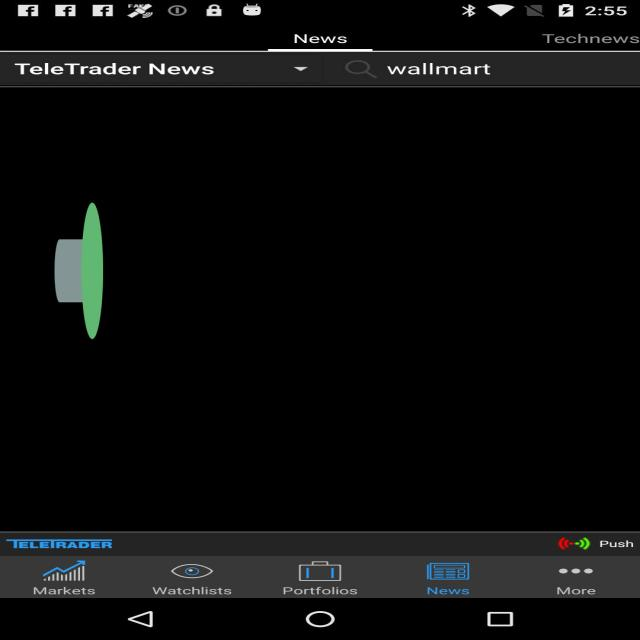social proof: (55, 119, 103, 423)
